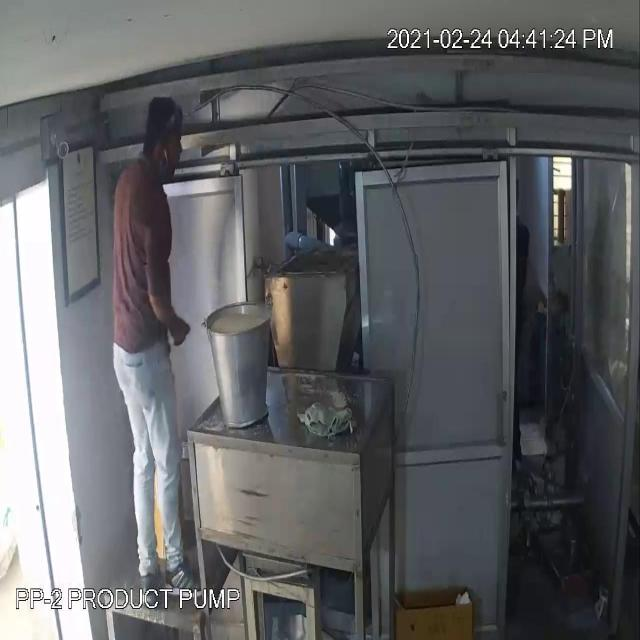no-helmet: (146, 98, 183, 162)
